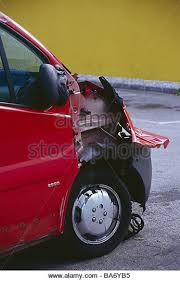fender-dent: (70, 76, 152, 158)
